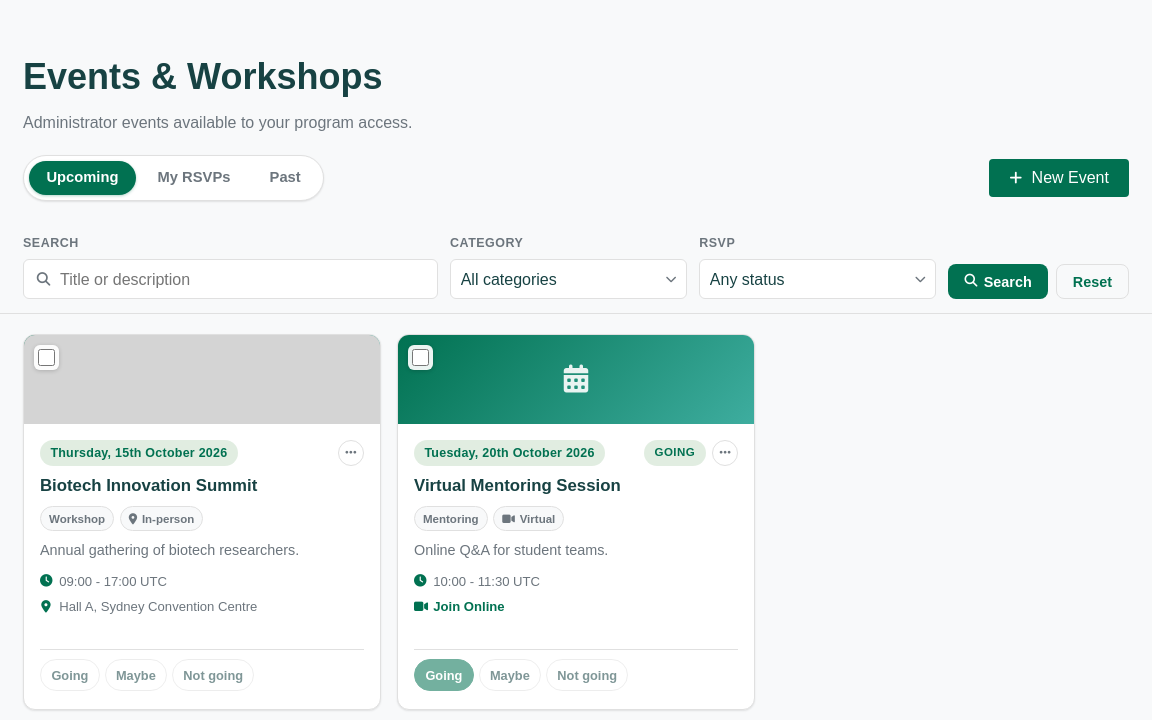
Test: EventsPage - Admin Integration & Role Access › Admin Access View › opens See RSVPs side panel when clicking See RSVPs in dropdown
// Open menu
What coordinates should you click on to do the following:
click the 1st button with class "event-card-more-btn"
I would click on:
 (351, 453)
Its box is top-left (338, 440), bottom-right (364, 466).
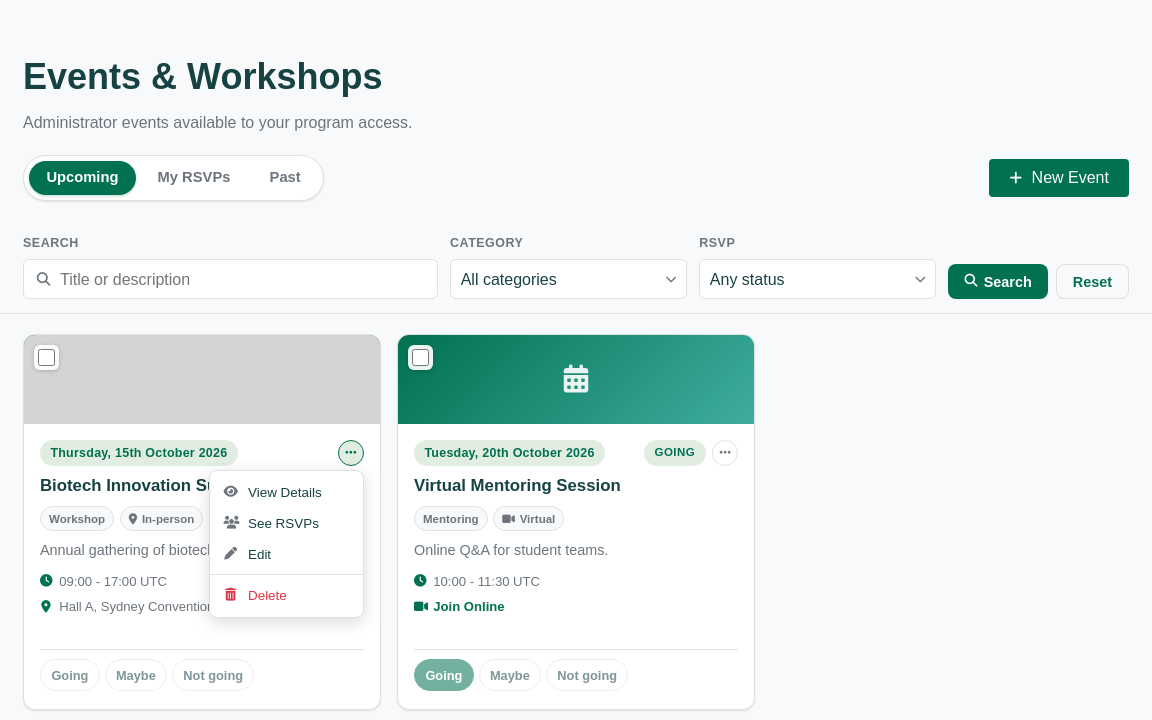
Result: the menu item with class "event-card-dropdown-item" showing "See RSVPs" is shown
What coordinates should you click on to do the following:
click the menu item with class "event-card-dropdown-item" showing "See RSVPs"
I would click on:
 (286, 523)
Its box is top-left (210, 508), bottom-right (363, 539).
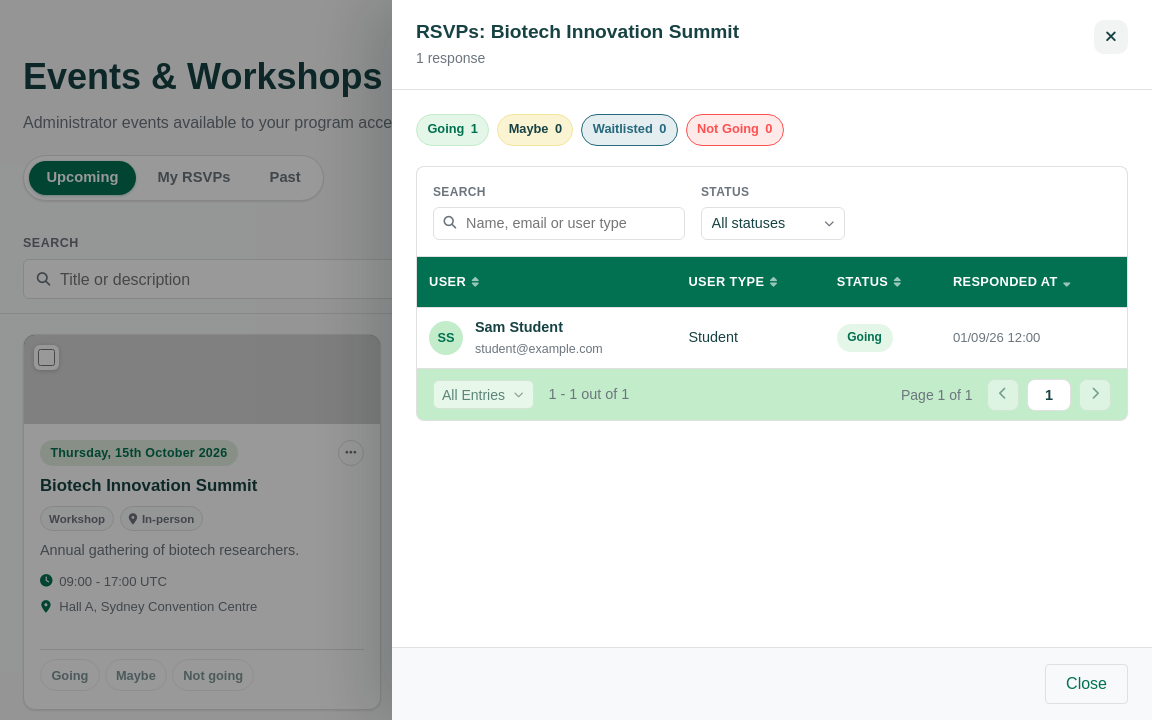
Result: the element with class "admin-event-rsvps" is shown at top-left (416, 114), bottom-right (1128, 421)
Result: the element with class "admin-event-rsvps" shows "User Type" at top-left (688, 272), bottom-right (777, 292)
Result: the element with class "admin-event-rsvps" shows "Sam Student" at top-left (475, 320), bottom-right (563, 336)
